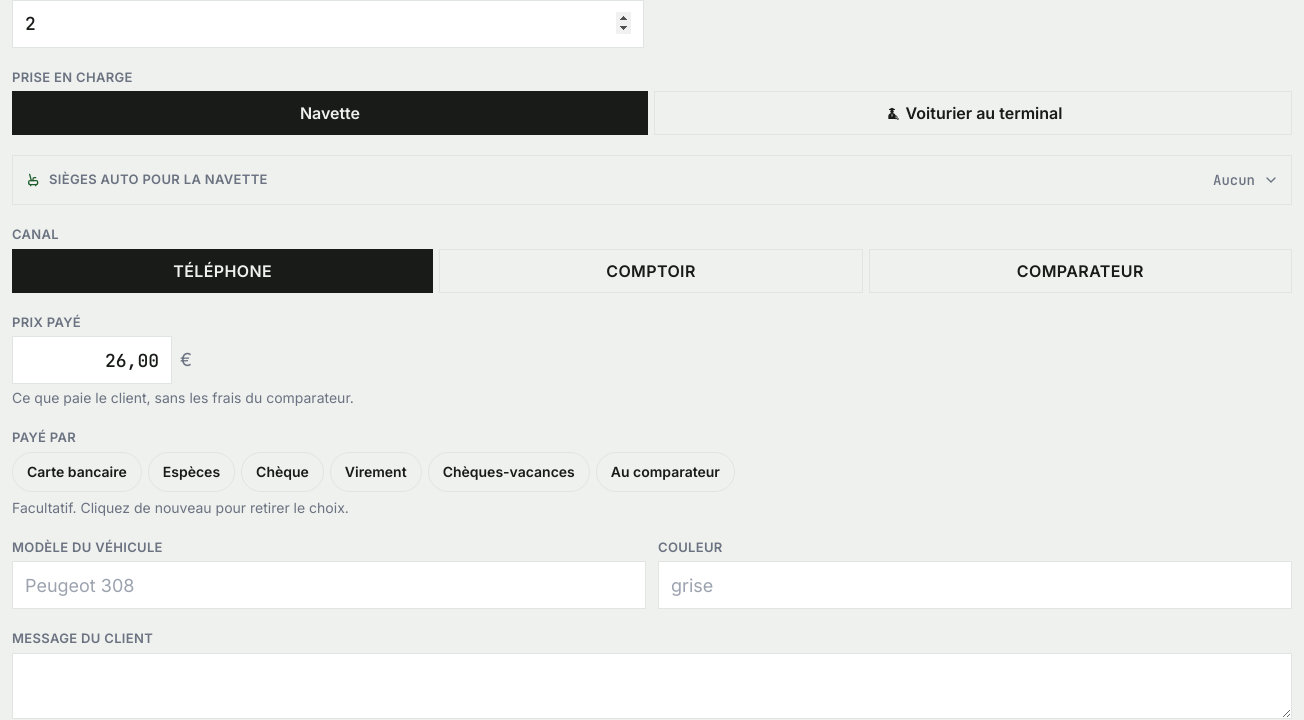
Test: ReservationForm › 10/10/2026 : un montant invalide reste dans le formulaire ; le prix d'une réservation Plazo ne se modifie pas
The width and height of the screenshot is (1304, 720).
(page scrolled)
Replace the text in the field labelled "Prix payé" with "26,5€x": x=92, y=360 [12, 336, 172, 384]
(page scrolled)
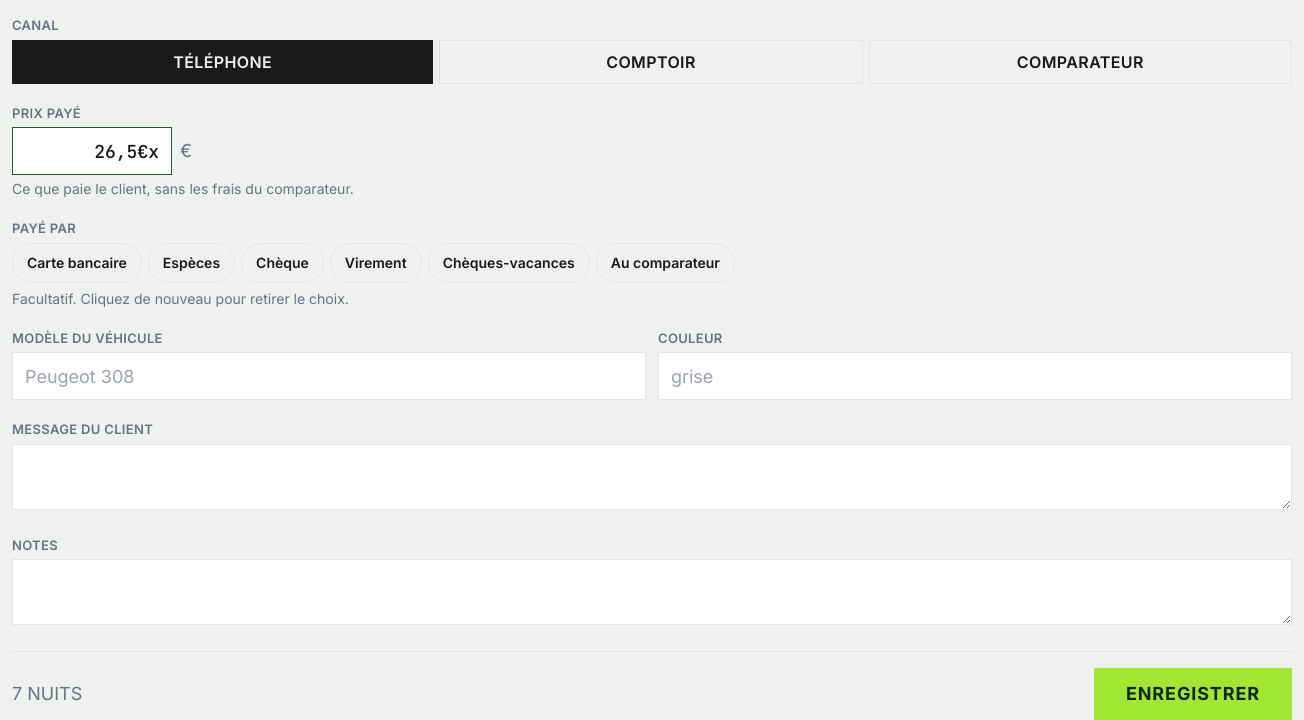
Click the button "Enregistrer": x=1193, y=694 [1094, 668, 1292, 719]
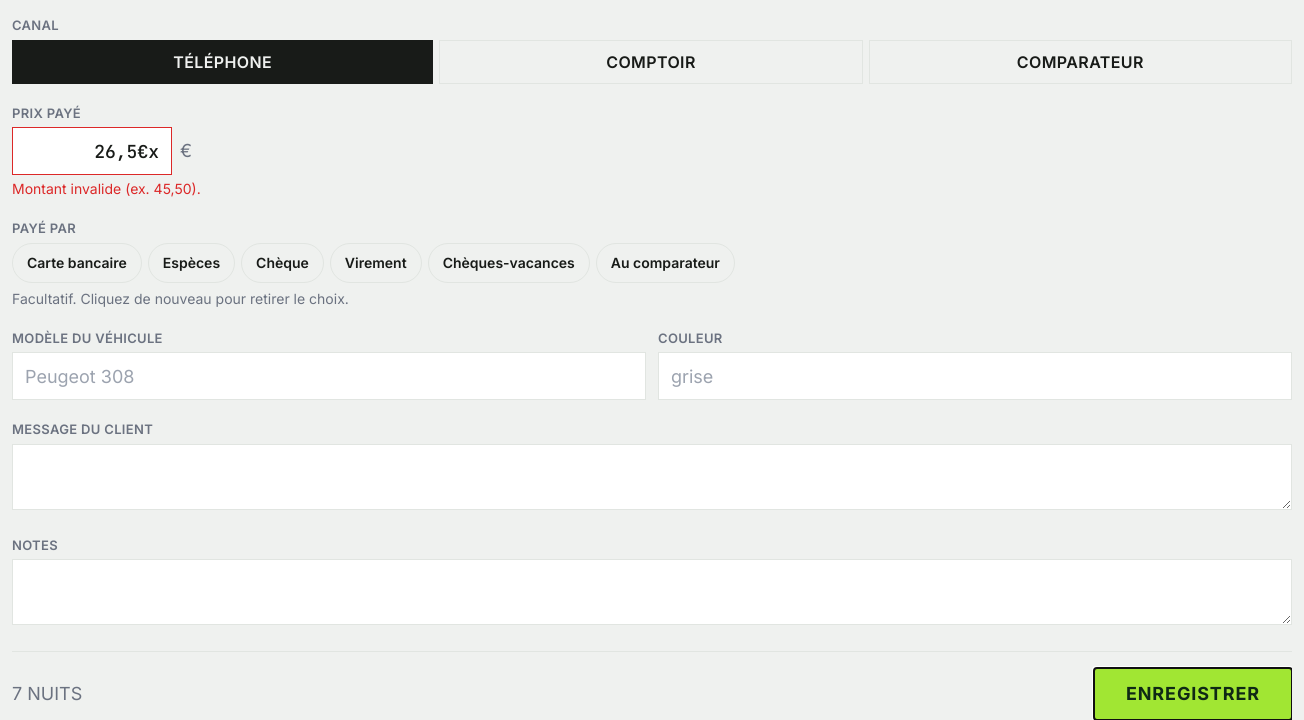
Now the text "Montant invalide (ex. 45,50)." is shown, box [12, 180, 201, 197]
